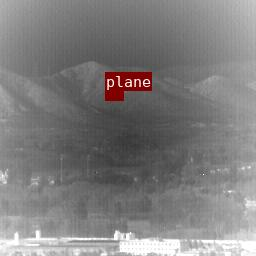plane: (105, 91, 123, 100)
